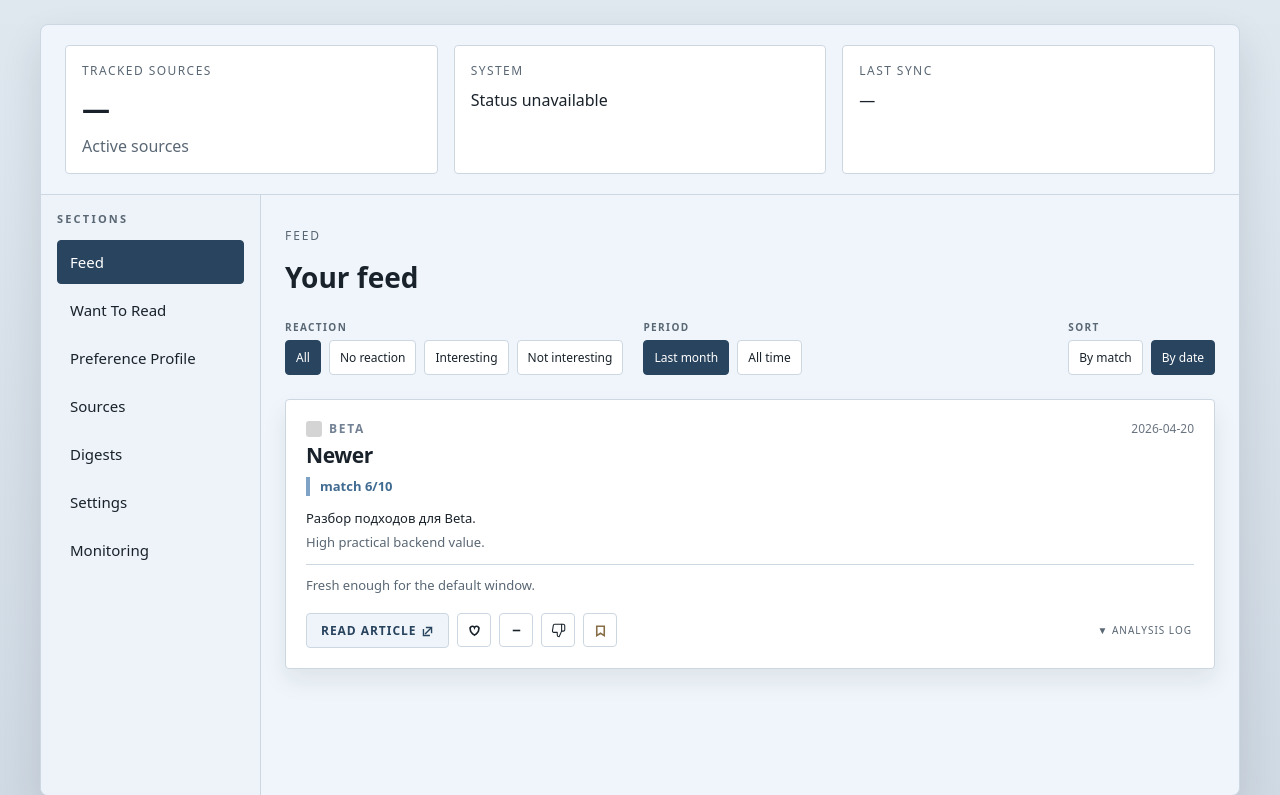
Scenario: feed page loads last-month posts by default, shows the redesigned card content, and can request all collected posts
The image size is (1280, 795).
Expected: the heading "Newer" is shown, [306,443,373,467]
Step 1. Click the button "All time" → {"x": 770, "y": 358}, box [737,340,802,375]
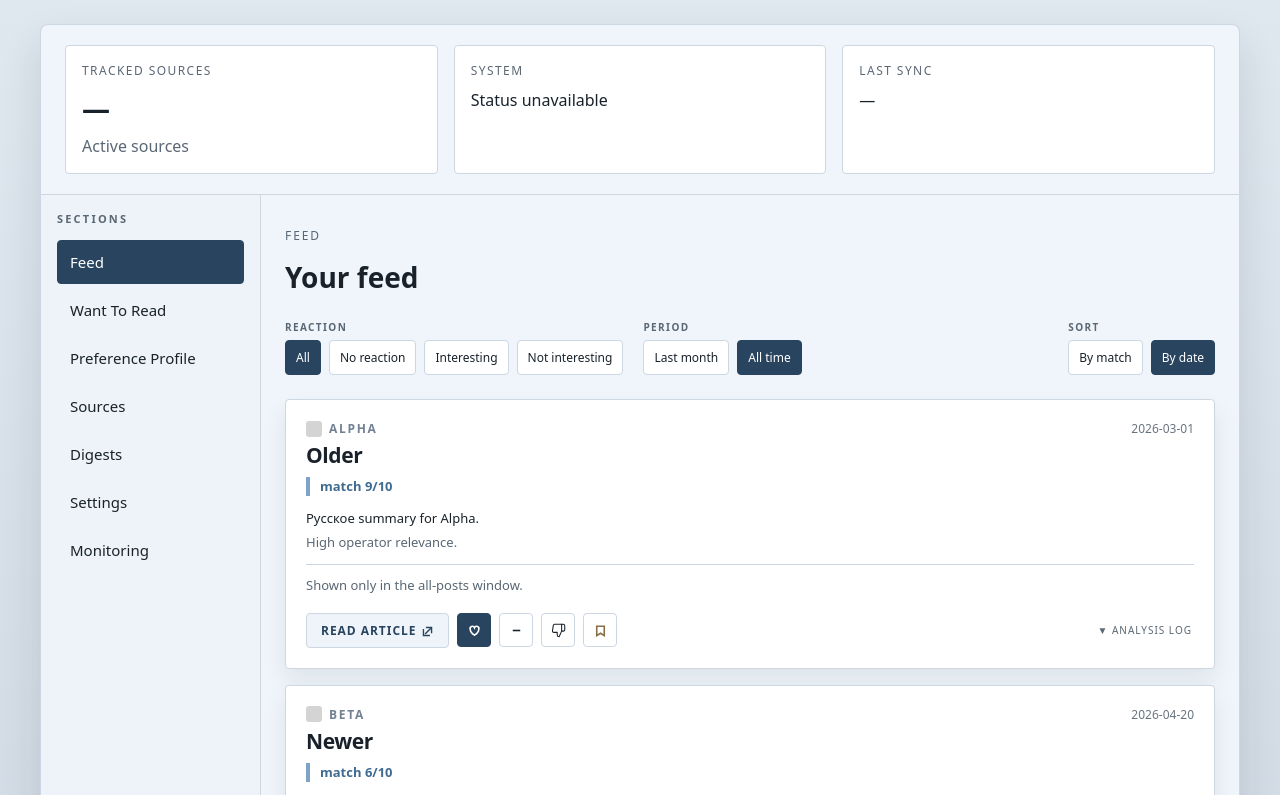
Expected: the heading "Newer" is shown, [306,729,373,753]
Now the heading "Older" is shown, box [306,441,362,469]
